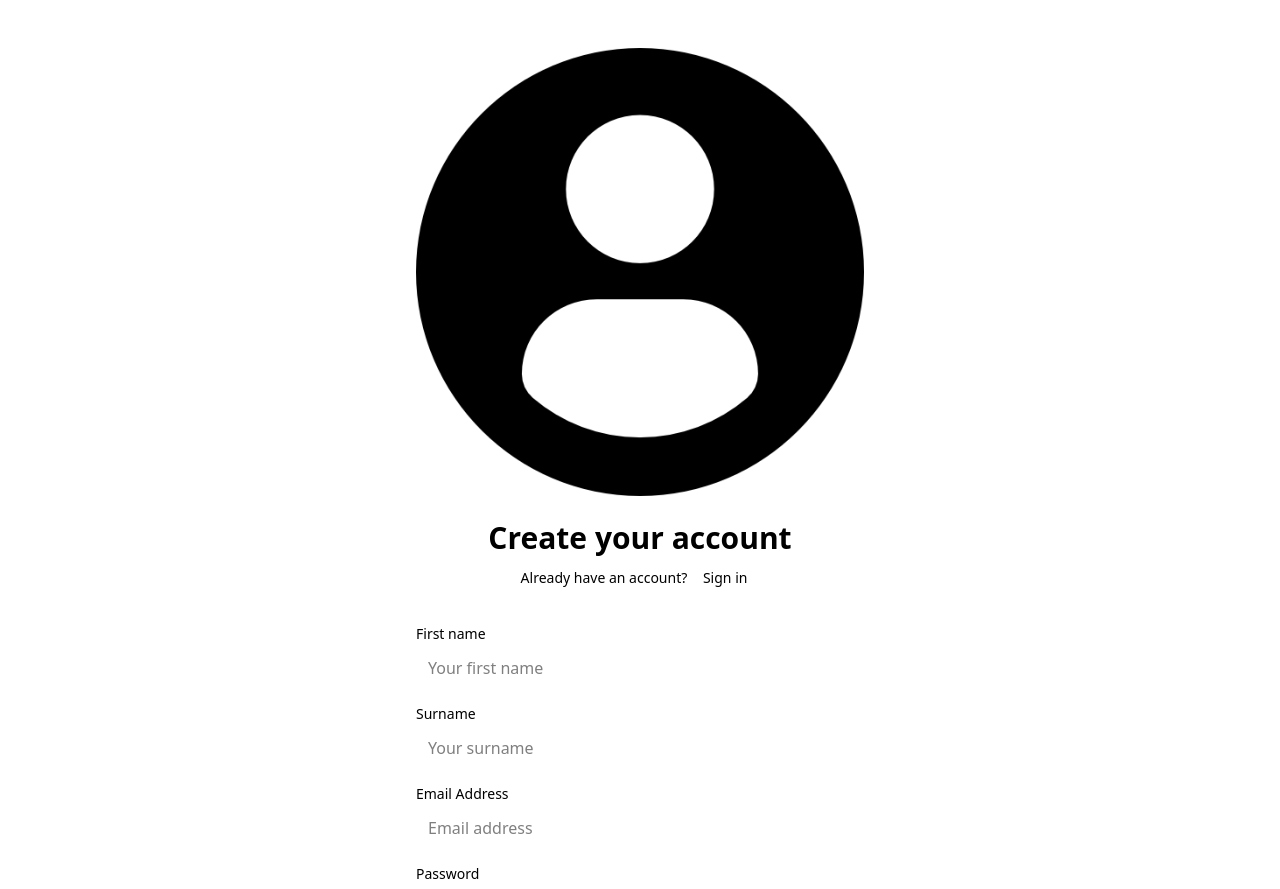
Test: Auth page: sign-up › opens the reset-password dialog prefilled from the duplicate notice
The width and height of the screenshot is (1280, 889).
Type "Jo" into the field with id "first_name".
click(640, 668); type("Jo")  # box [416,648,864,688]
Type "Smith" into the field labelled "Surname".
click(640, 748); type("Smith")  # box [416,728,864,768]
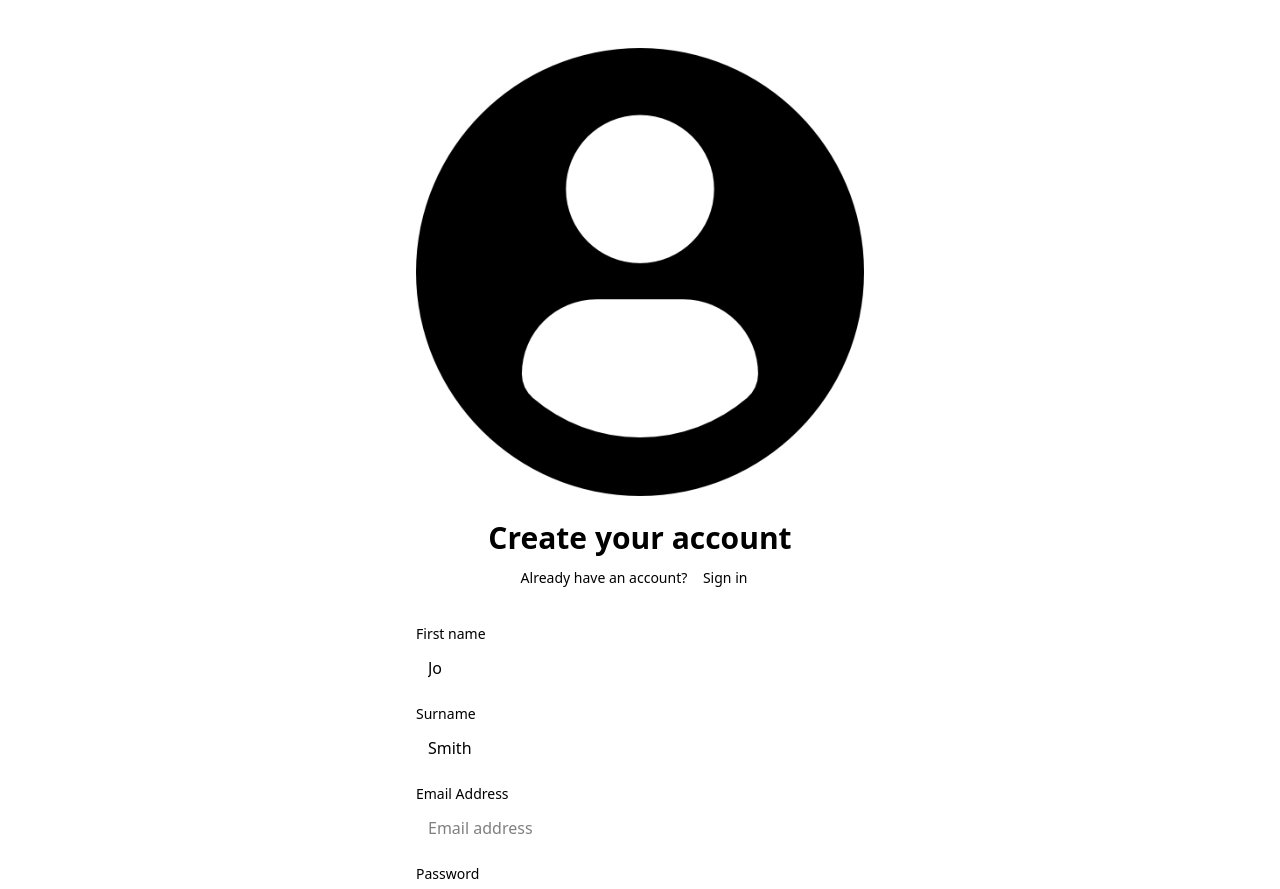
Type "jo.smith@example.com" into the field with id "email".
click(640, 828); type("jo.smith@example.com")  # box [416,808,864,848]
(page scrolled)
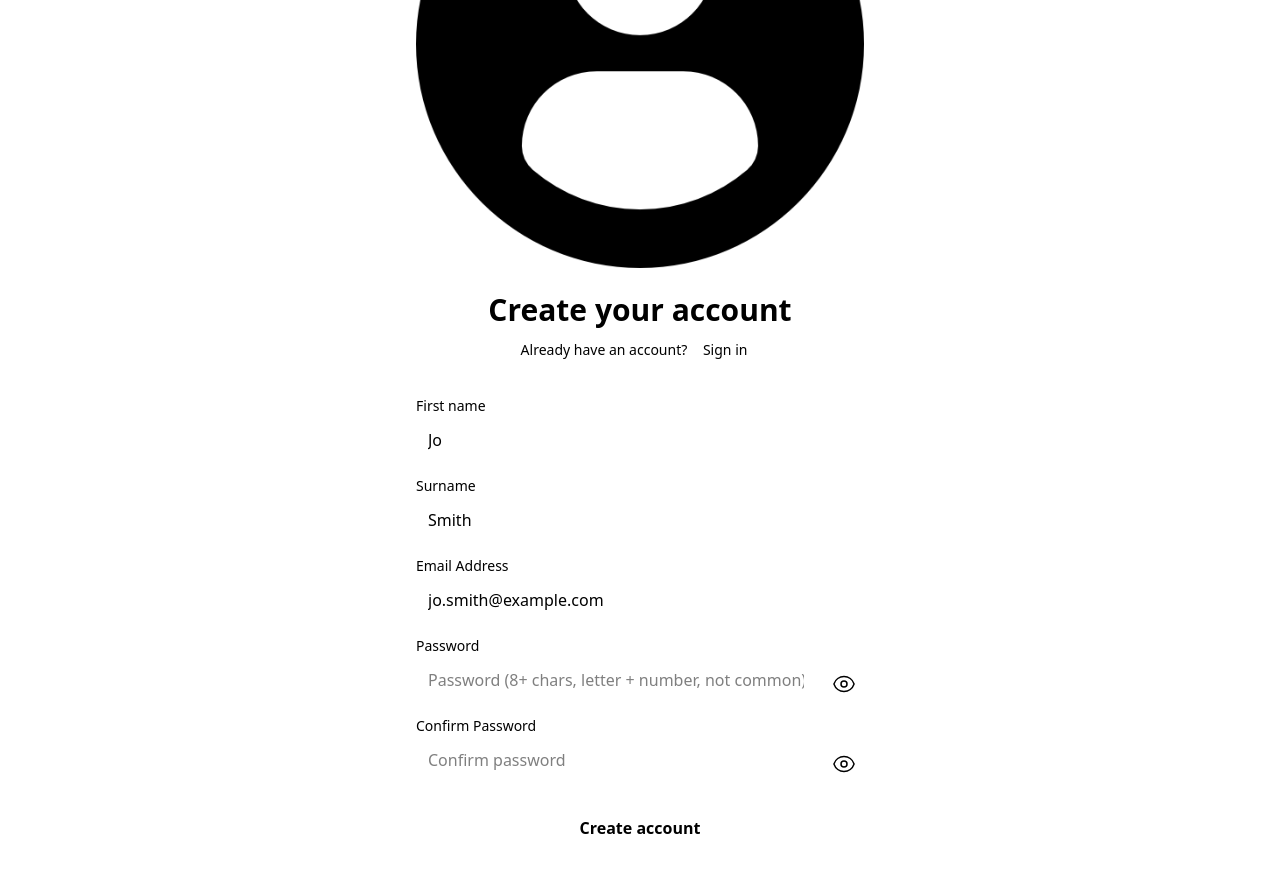
Type "Passw0rd!x" into the password field labelled "Password".
click(616, 680); type("Passw0rd!x")  # box [416,660,816,700]
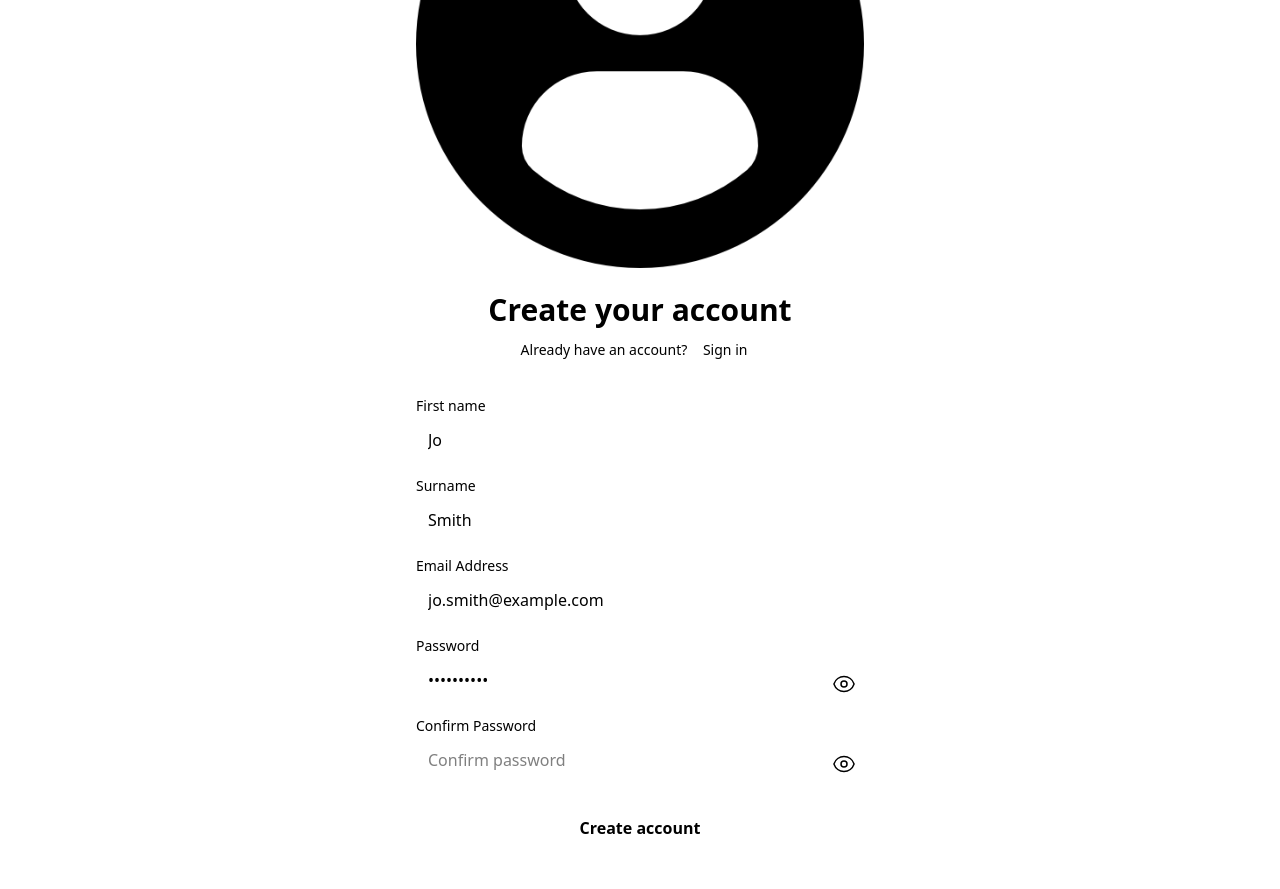
Type "Passw0rd!x" into the password field with id "confirmPassword".
click(616, 760); type("Passw0rd!x")  # box [416,740,816,780]
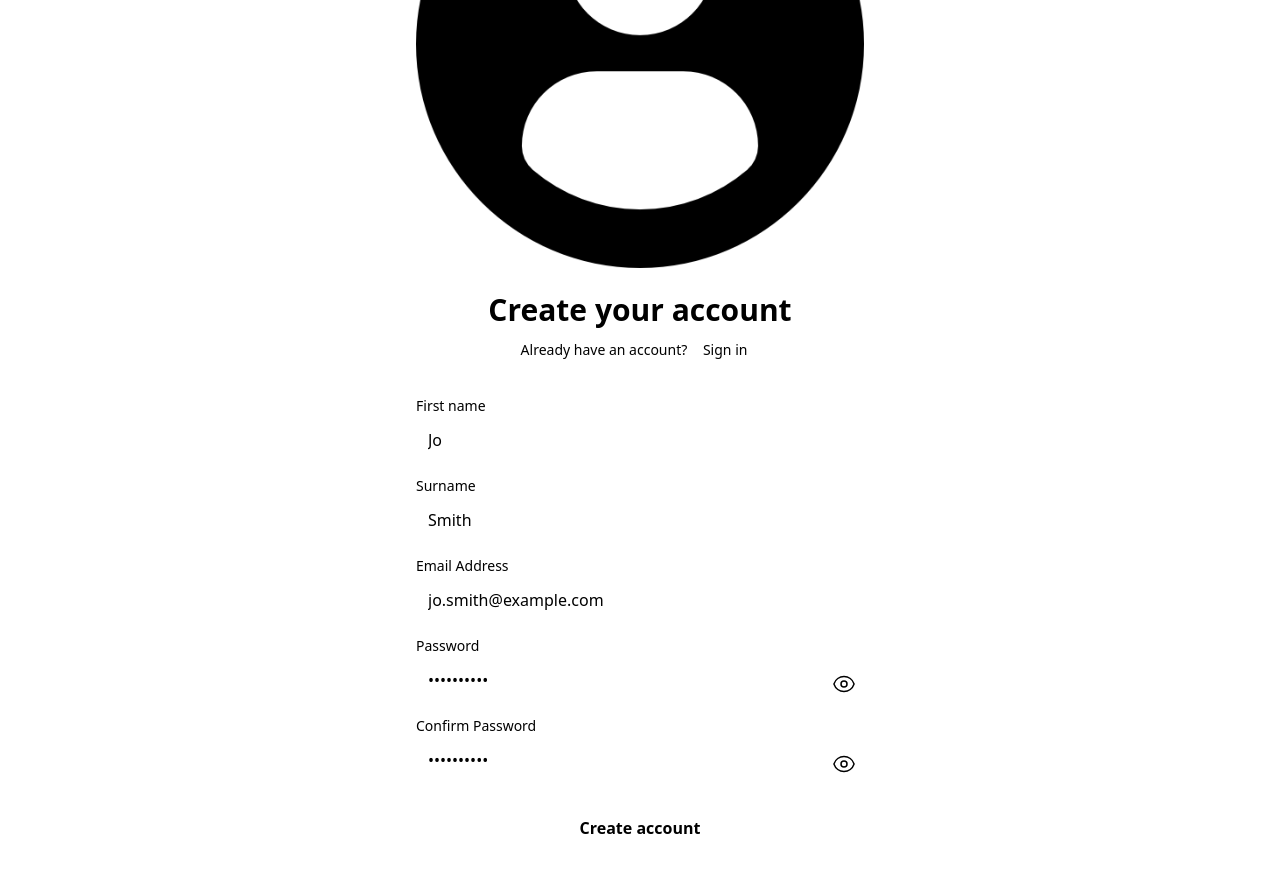
Submit the form, box [416,396,864,852]
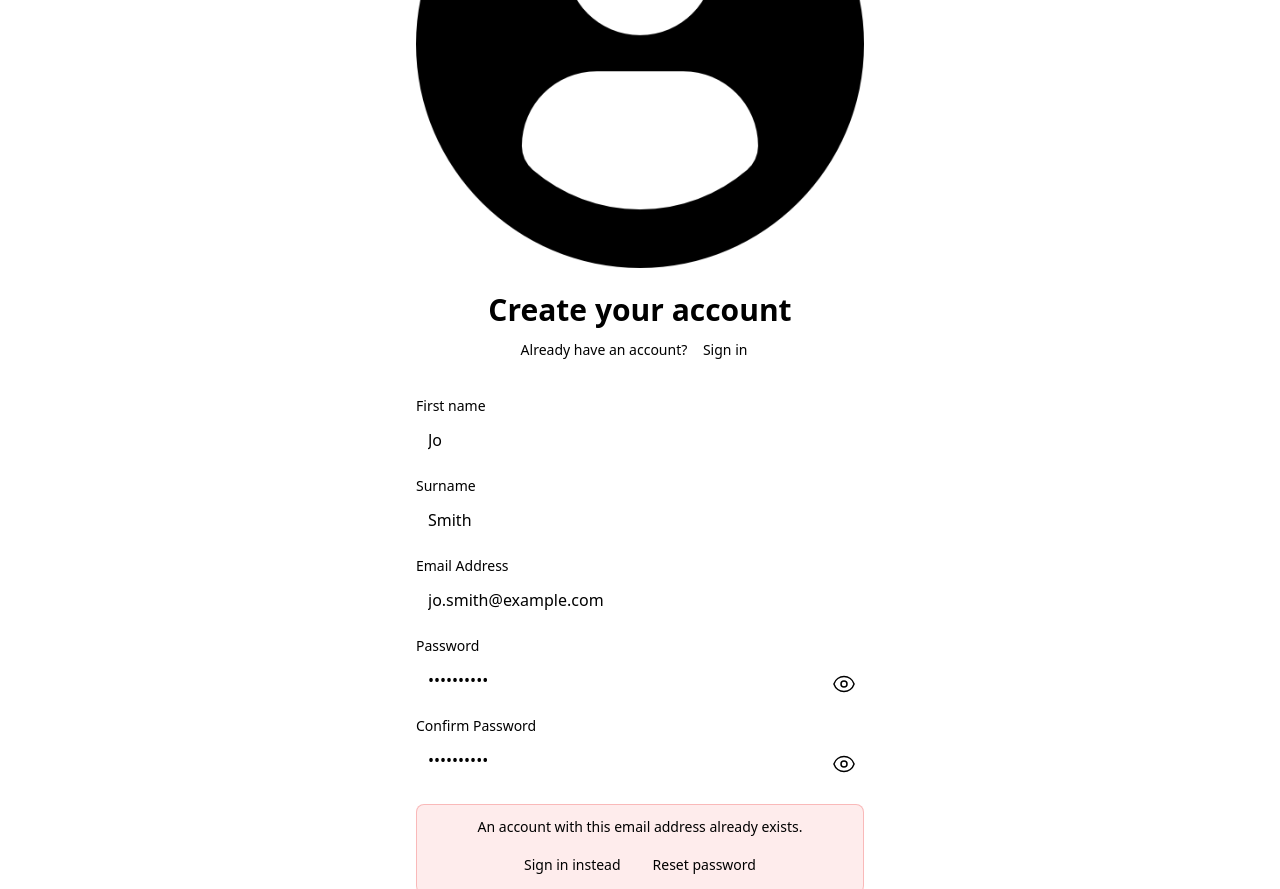
Click the button "Reset password".
click(704, 865)  # box [641,849,768,881]
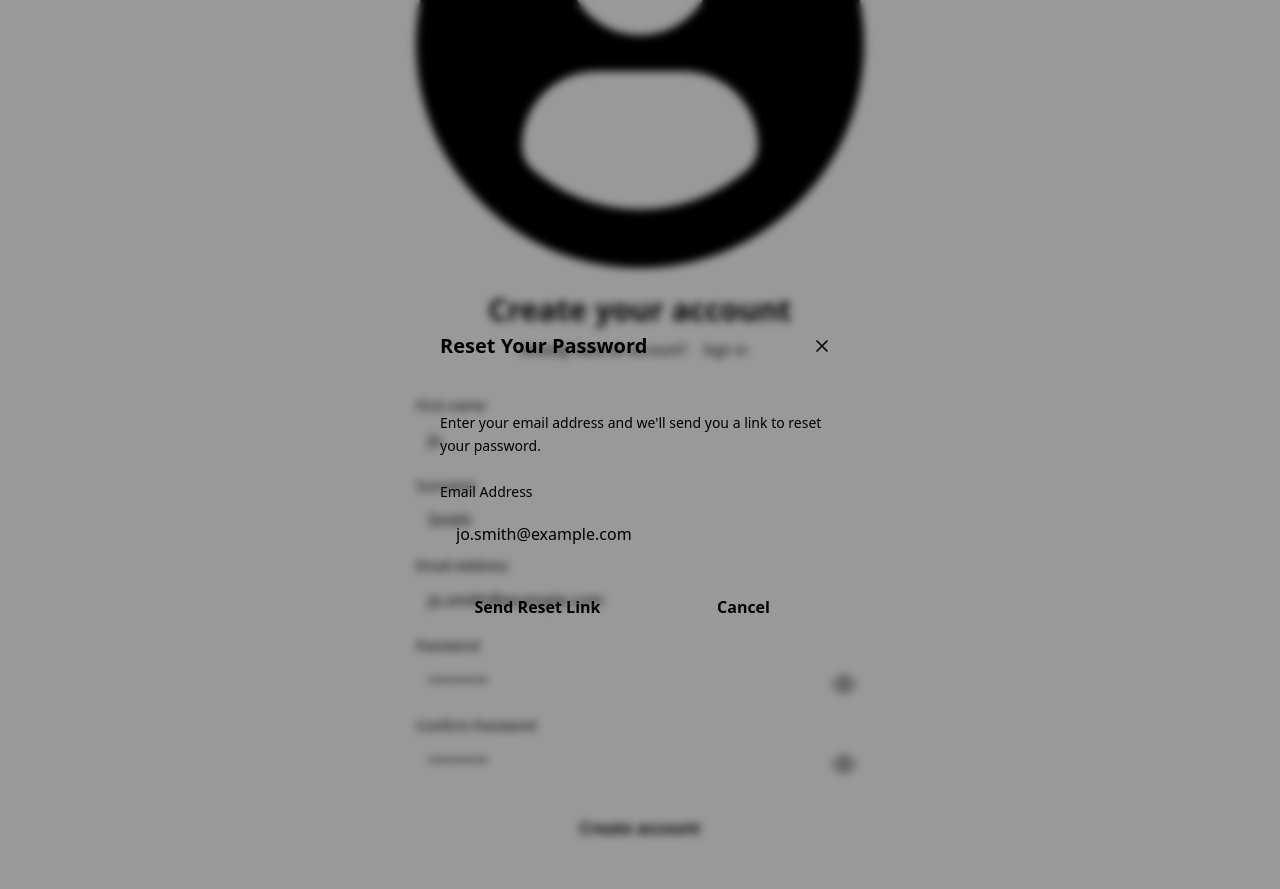
expect the heading "Reset Your Password" is shown: met, box [440,332,647,360]
expect the field with id "forgot-email" holds "jo.smith@example.com": met, box [440,510,840,558]
